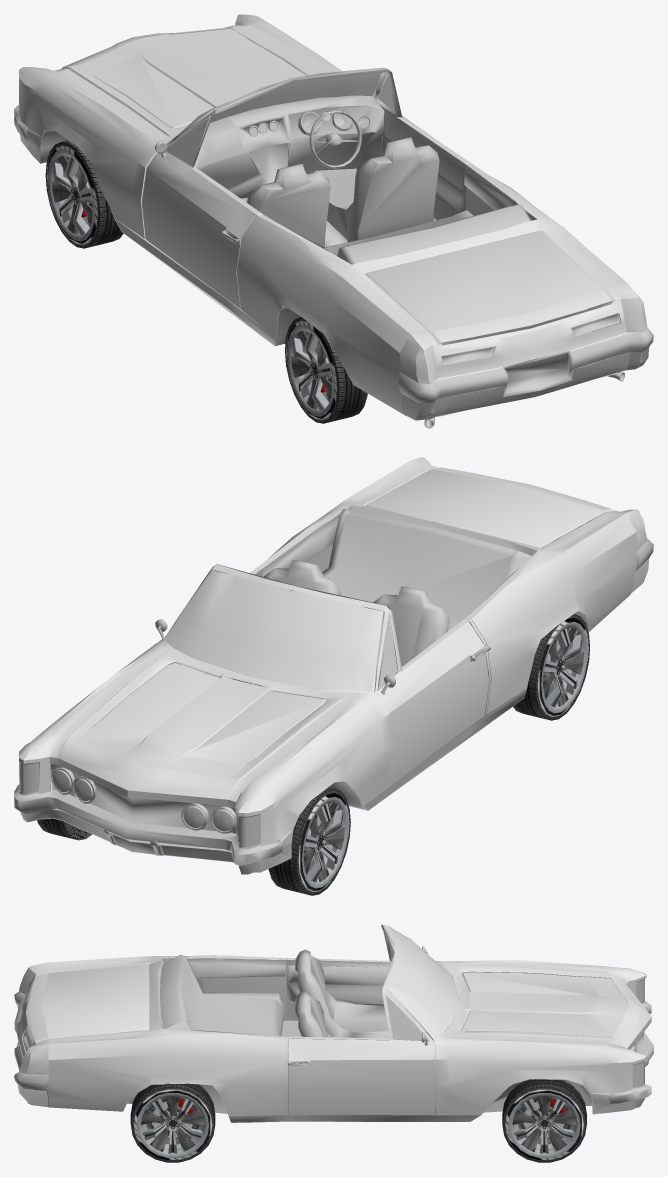
3 views of the same model, one above another, from view 1: azimuth 30°, elevation 25°; view 2: azimuth 150°, elevation 25°; view 3: azimuth 270°, elevation 25° (orthographic). The views are drawn at different scales.
Parts seen in each view (by area): view 1: 1963 convertable body.010, 1963 convertable body.009, 1963 convertable body.057, 1963 convertable body.040, 1963 convertable interior.001, 1963 convertable tire.001, 1963 convertable tire, 1963 convertable glass; view 2: 1963 convertable body.010, 1963 convertable glass, 1963 convertable body.057, 1963 convertable interior.002, 1963 convertable body.040, 1963 convertable body.009, 1963 convertable tire, 1963 convertable tire.001, 1963 convertable tire.003; view 3: 1963 convertable body.010, 1963 convertable body.002, 1963 convertable body.057, 1963 convertable body.009, 1963 convertable tire.003, 1963 convertable tire.002, 1963 convertable glass, 1963 convertable interior.002, 1963 convertable interior.001.
Part boxes in pixels (x1,y1,x2,y2): 1963 convertable body.010: [18, 14, 649, 428]; 1963 convertable body.009: [366, 231, 613, 343]; 1963 convertable body.057: [77, 28, 305, 127]; 1963 convertable body.040: [141, 110, 254, 308]; 1963 convertable interior.001: [398, 313, 653, 402]; 1963 convertable tire.001: [285, 317, 367, 423]; 1963 convertable tire: [45, 140, 123, 248]; 1963 convertable glass: [181, 71, 381, 131]; 1963 convertable body.010: [19, 457, 649, 874]; 1963 convertable glass: [164, 569, 383, 691]; 1963 convertable body.057: [77, 662, 324, 777]; 1963 convertable interior.002: [14, 762, 283, 874]; 1963 convertable body.040: [374, 607, 488, 784]; 1963 convertable body.009: [366, 467, 613, 548]; 1963 convertable tire: [268, 787, 350, 895]; 1963 convertable tire.001: [513, 614, 589, 720]; 1963 convertable tire.003: [37, 818, 91, 840]; 1963 convertable body.010: [14, 924, 651, 1122]; 1963 convertable body.002: [288, 989, 435, 1115]; 1963 convertable body.057: [463, 972, 629, 1036]; 1963 convertable body.009: [28, 964, 149, 1042]; 1963 convertable tire.003: [502, 1079, 586, 1162]; 1963 convertable tire.002: [130, 1083, 215, 1162]; 1963 convertable glass: [388, 927, 458, 1038]; 1963 convertable interior.002: [609, 978, 653, 1108]; 1963 convertable interior.001: [14, 989, 48, 1090].
Bounding box in the file's own units: 251 × 181 × 662.
